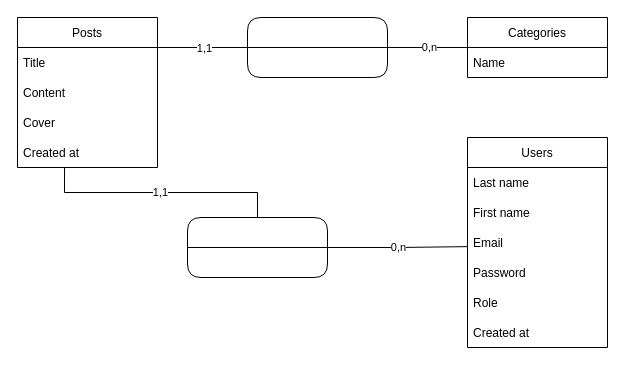
This 625x365 diagram has some shape labels left out. Each missing label, with the centre of its shape:
"Create" goes at [257,247].
"Link" goes at [317,47].
